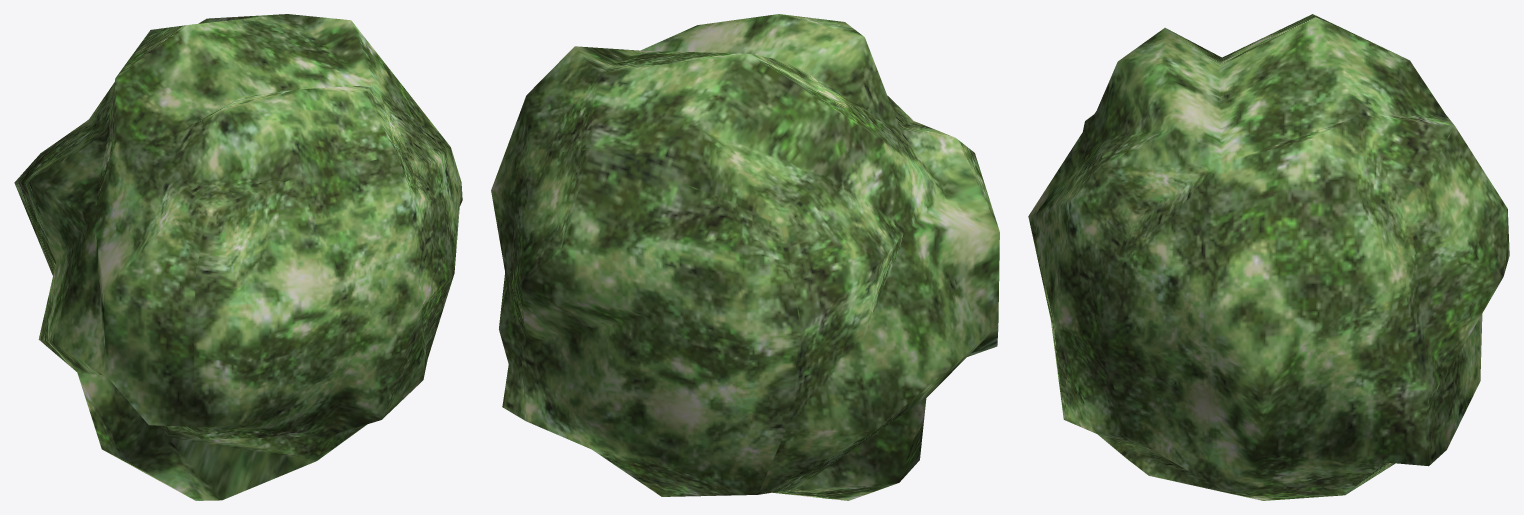
The model's file is asteroid_acid_large_s02_l2.fbx.
The picture shows the model from 3 angles, left to right: view 1: azimuth 30°, elevation 25°; view 2: azimuth 150°, elevation 25°; view 3: azimuth 270°, elevation 25°; orthographic projection. The views are drawn at different scales.
Parts seen in each view (by area): view 1: mesh_node; view 2: mesh_node; view 3: mesh_node.
Part boxes in pixels (<box>): mesh_node: <box>14,14,462,500</box>; mesh_node: <box>491,14,999,500</box>; mesh_node: <box>1028,14,1509,500</box>.
Size of the model in its own units: 116 by 116 by 107.
1 material, 1 textured.
